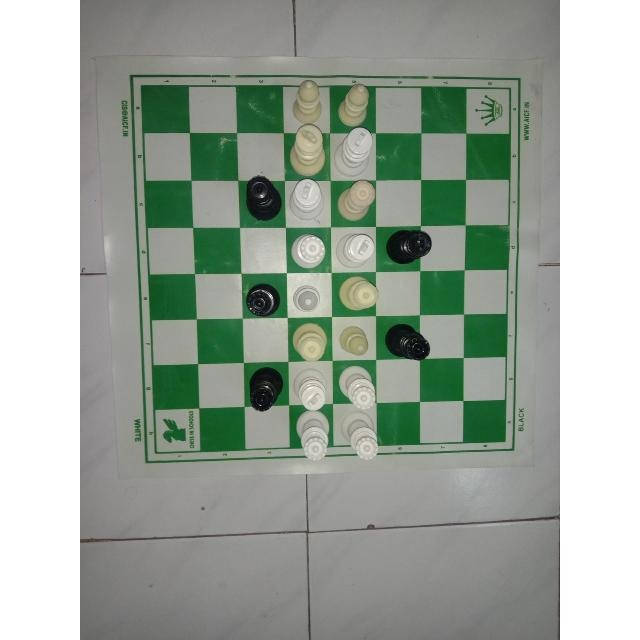black-king: (387, 227, 433, 269)
black-queen: (244, 173, 284, 221), (247, 364, 285, 414), (385, 323, 432, 362), (244, 279, 282, 319)
white-bishop: (287, 75, 328, 125), (334, 80, 373, 128), (289, 279, 325, 317), (338, 320, 372, 358)
white-king: (330, 122, 375, 178), (287, 127, 329, 177), (287, 177, 327, 223), (334, 230, 376, 268), (293, 367, 329, 411)
white-queen: (294, 408, 331, 463), (338, 364, 379, 410), (340, 413, 379, 461), (335, 178, 377, 221), (336, 275, 376, 315), (287, 324, 330, 360), (288, 231, 327, 270)
